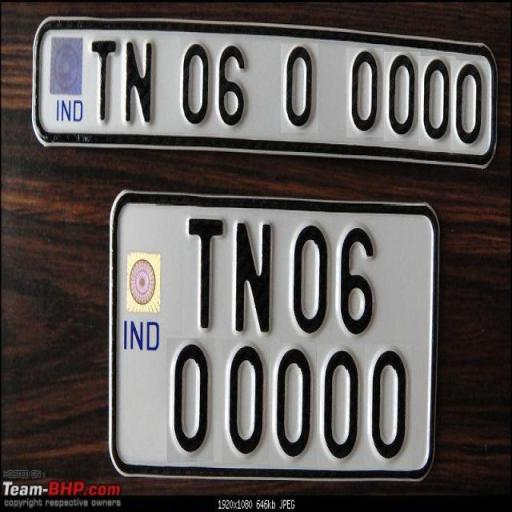number plate: (100, 194, 454, 491), (32, 16, 506, 186)
